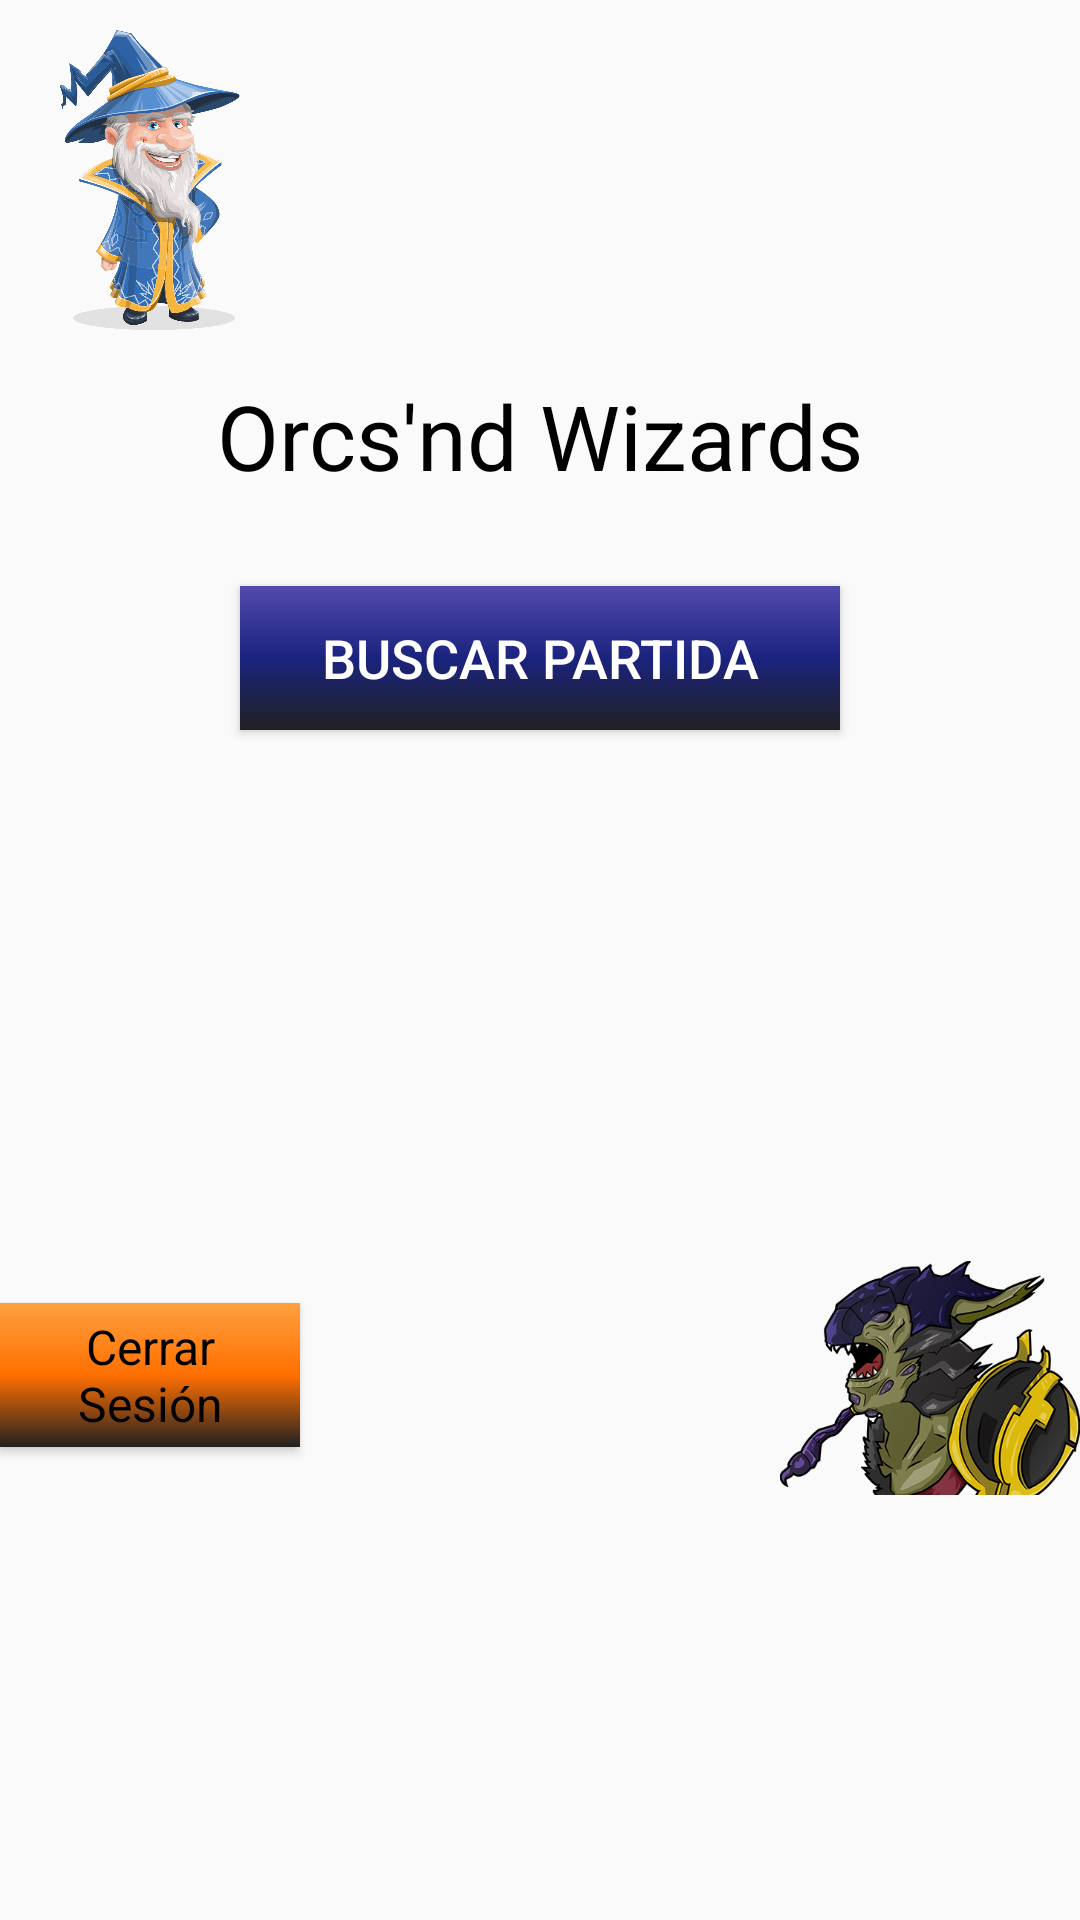

Point at icon controls on the screen. Image size 1080px×1920px, points as point (x, y).
orc: point (930, 1378)
